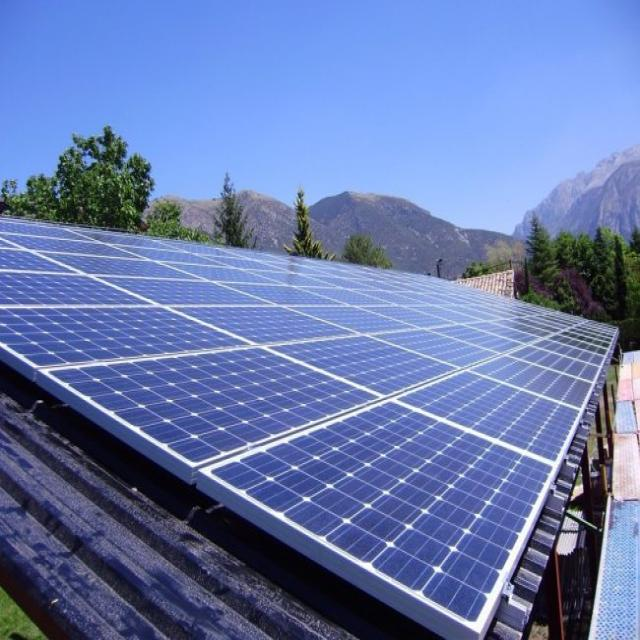clean-solar-panel: (1, 218, 618, 638)
